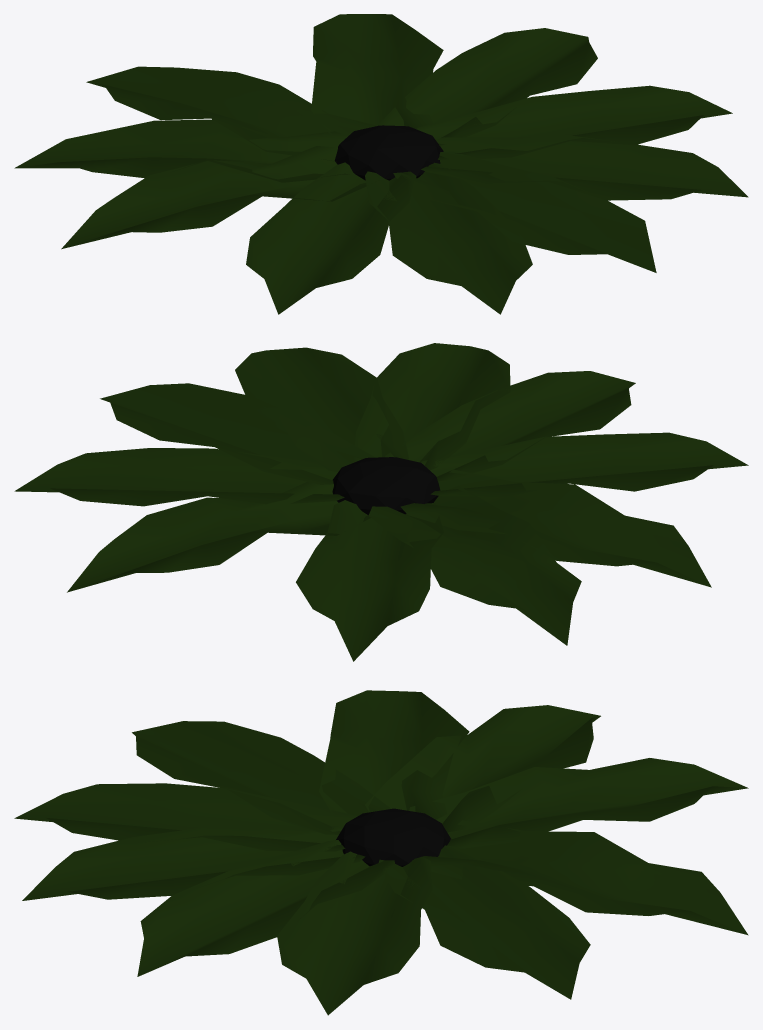
File: angrygreenflower_join.fbx
3 renders of one model, top to bottom at view 1: azimuth 30°, elevation 25°; view 2: azimuth 150°, elevation 25°; view 3: azimuth 270°, elevation 25°, orthographic. The views are drawn at different scales.
Parts seen in each view (by area): view 1: Plane.013; view 2: Plane.013; view 3: Plane.013.
Part boxes in pixels (x1,y1,x2,y2): Plane.013: [14, 14, 748, 314]; Plane.013: [14, 343, 748, 661]; Plane.013: [14, 690, 748, 1015].
Bounding box in the file's own units: 1321 × 85.2 × 1243.
